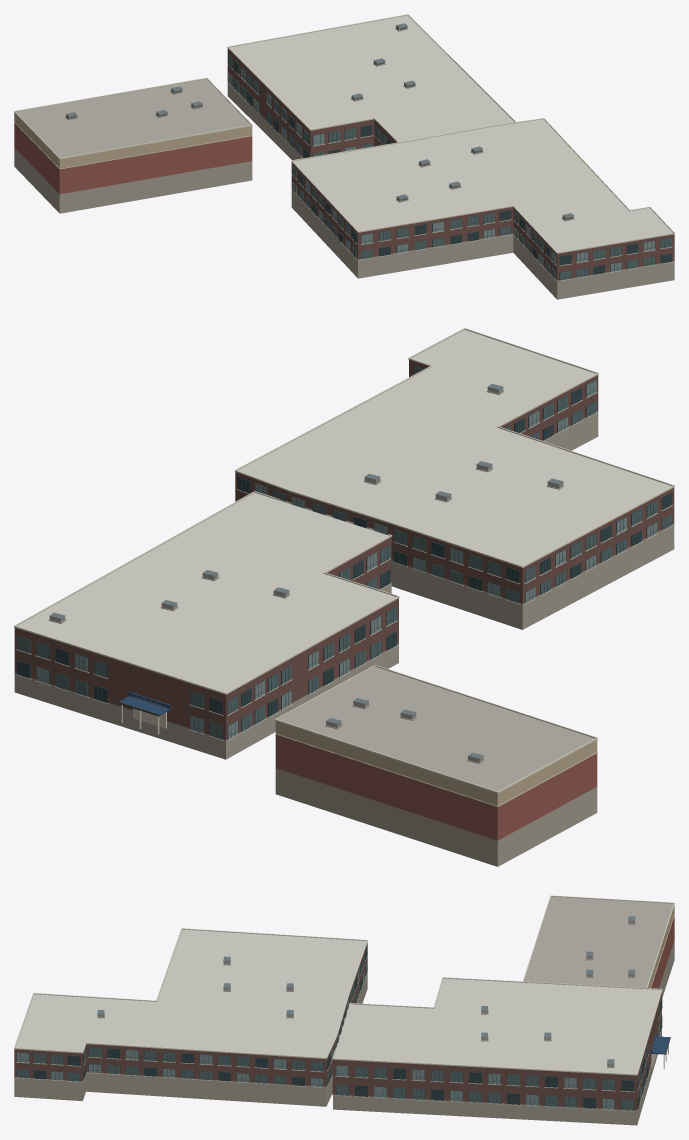
Rendered from oxford-intermediate.glb.
3 views of the same model, one above another, from view 1: azimuth 30°, elevation 25°; view 2: azimuth 150°, elevation 25°; view 3: azimuth 270°, elevation 25° (orthographic). The views are drawn at different scales.
Visible parts, largest first — view 1: 264403529 | Roof, 264403529 | Facades, 680766338 | Roof, 264403529 | Shell and foundation, 680766338 | Shell and foundation; view 2: 264403529 | Roof, 264403529 | Facades, 264403529 | Shell and foundation, 680766338 | Roof, 680766338 | Shell and foundation; view 3: 264403529 | Roof, 264403529 | Facades, 264403529 | Shell and foundation, 680766338 | Roof, 680766338 | Shell and foundation.
Boxes of the visible parts, box(x1,y1,x2,y2) form: 264403529 | Roof: box(14, 15, 674, 299); 264403529 | Facades: box(14, 14, 674, 281); 680766338 | Roof: box(16, 79, 250, 157); 264403529 | Shell and foundation: box(227, 48, 674, 280); 680766338 | Shell and foundation: box(14, 113, 252, 194); 264403529 | Roof: box(14, 330, 674, 866); 264403529 | Facades: box(14, 328, 674, 806); 264403529 | Shell and foundation: box(14, 360, 674, 739); 680766338 | Roof: box(278, 666, 594, 791); 680766338 | Shell and foundation: box(275, 721, 597, 840); 264403529 | Roof: box(14, 916, 674, 1125); 264403529 | Facades: box(14, 895, 674, 1111); 264403529 | Shell and foundation: box(14, 943, 661, 1110); 680766338 | Roof: box(524, 896, 673, 987); 680766338 | Shell and foundation: box(648, 905, 674, 988).
Size of the model in its own units: 89.16 by 18.7 by 126.
